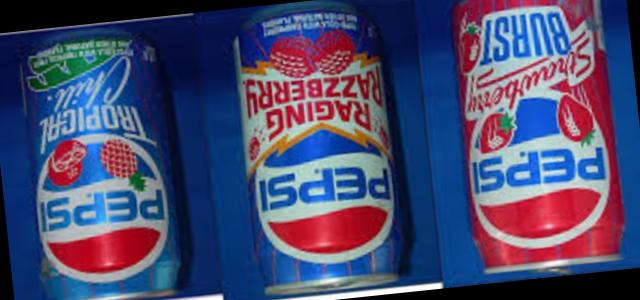metal: (452, 0, 624, 279), (235, 12, 404, 294), (21, 32, 181, 300)
